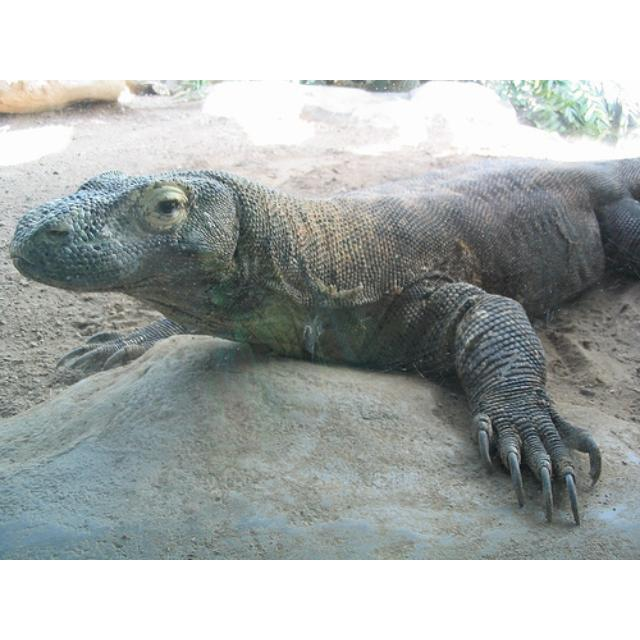KomodoDragon: (5, 155, 637, 528)
